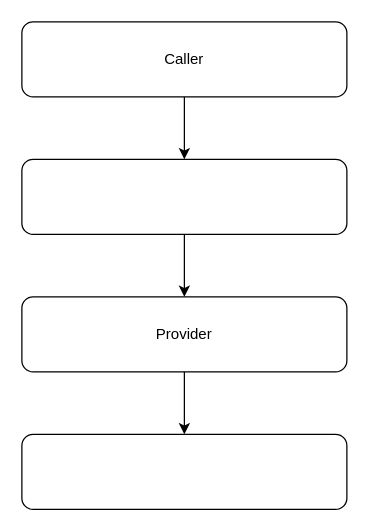
The diagram is 369 pixels wide and 531 high, and some of its shapes have lost their labels. The shapes that lost their labels are listed below. From the top down, each one's box as (x1, y1, x2, y2) in pixels, then its label:
(21, 158, 347, 234): Registry
(21, 433, 347, 509): Execute
